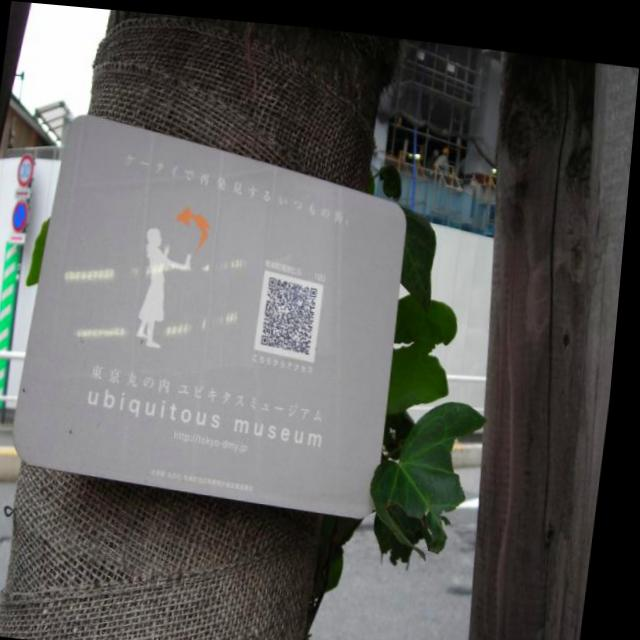qrcode: (267, 272, 323, 350)
